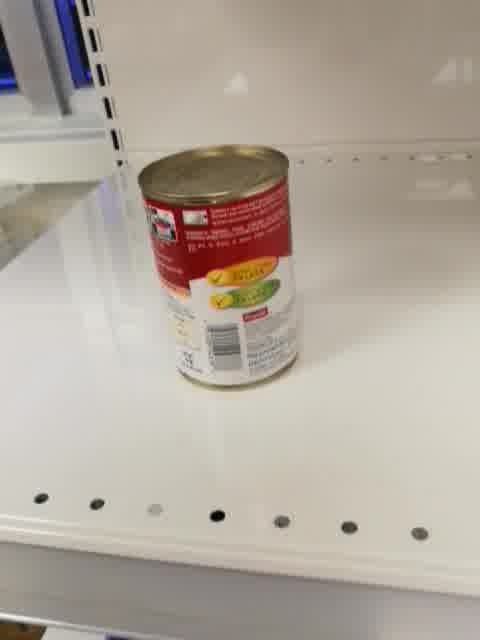tomatosoup: (135, 143, 300, 392)
